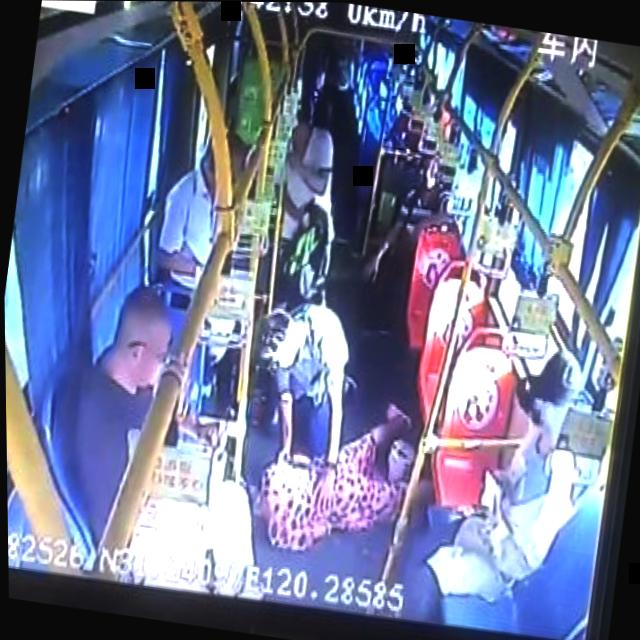Fall-Detected: (236, 380, 436, 576)
